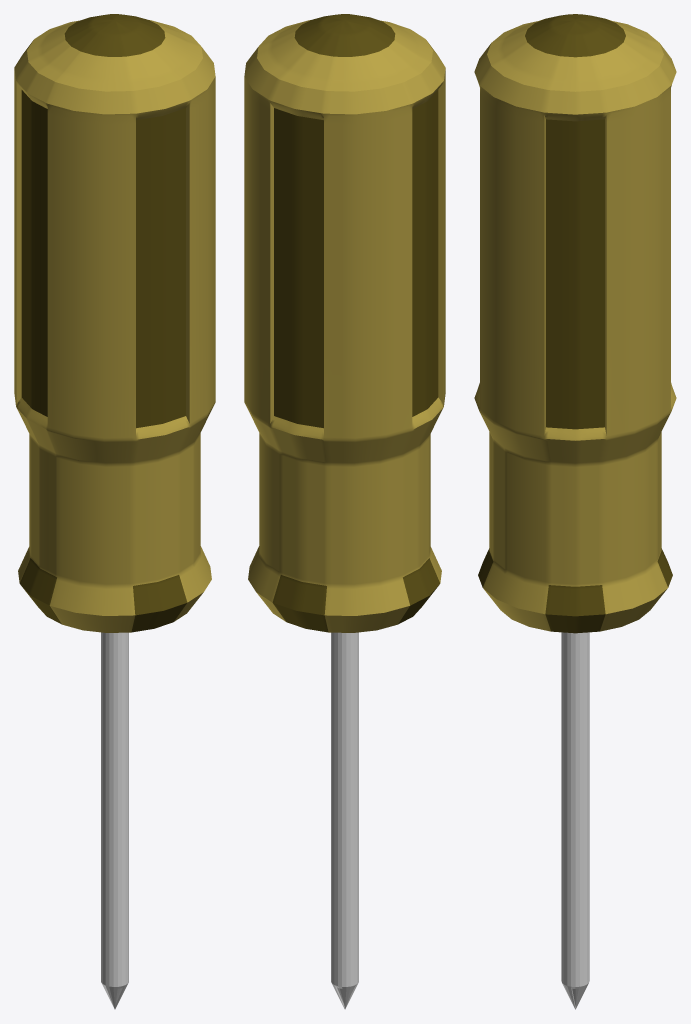
File: screwDriver.fbx
The picture shows the model from 3 angles, left to right: view 1: azimuth 30°, elevation 25°; view 2: azimuth 150°, elevation 25°; view 3: azimuth 270°, elevation 25°; orthographic projection.
Visible parts, largest first — view 1: Screwdriver_Mid; view 2: Screwdriver_Mid; view 3: Screwdriver_Mid.
Boxes of the visible parts, x1,y1,x2,y2 form: Screwdriver_Mid: (14, 14, 215, 1009); Screwdriver_Mid: (244, 14, 445, 1009); Screwdriver_Mid: (474, 14, 676, 1009).
Bounding box in the file's own units: 2 × 10.8 × 2.
